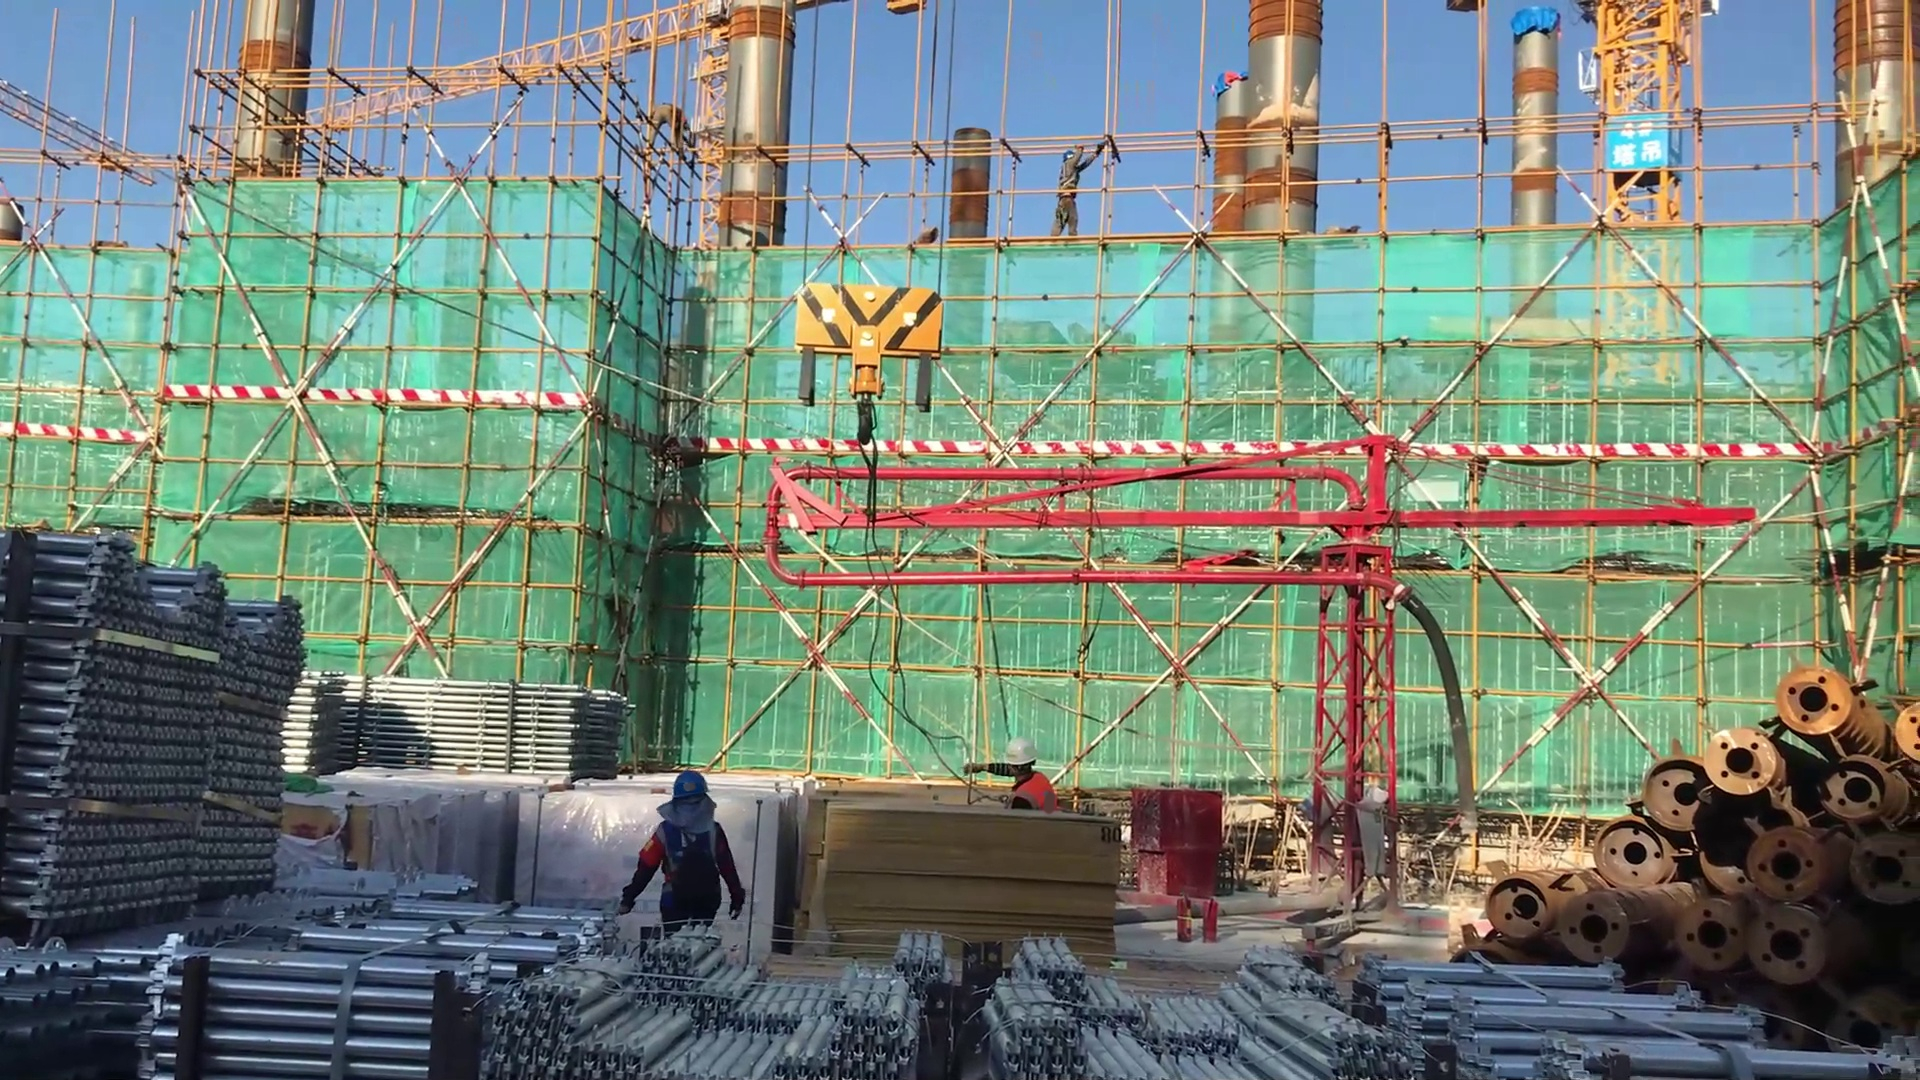board: (802, 795, 1120, 974)
helmet: (661, 761, 712, 822), (1005, 731, 1048, 783), (1059, 147, 1085, 166)
hook: (763, 266, 990, 507)
person: (617, 767, 752, 938), (959, 735, 1066, 823), (1055, 142, 1100, 246)
scaffold: (1, 541, 312, 935), (202, 844, 629, 1078), (472, 916, 985, 1080), (981, 932, 1441, 1080), (1369, 957, 1863, 1080), (1, 880, 268, 1075), (276, 664, 641, 787)
slogan: (1609, 114, 1676, 177)
vest: (655, 821, 726, 923), (1009, 774, 1059, 812), (1055, 162, 1081, 201)
